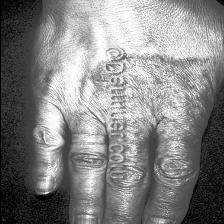Toxin: (100, 55, 166, 92)
